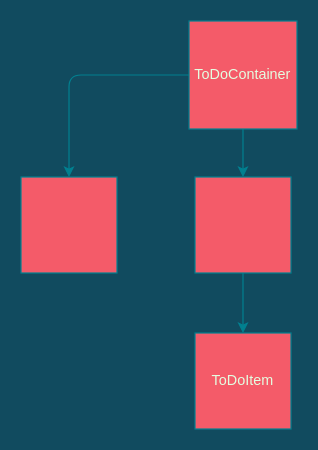
This 318x450 diagram has some shape labels left out. Each missing label, with the centre of its shape:
"CreateToDo" belongs at (242,224).
"FormItem" belongs at (68,224).
